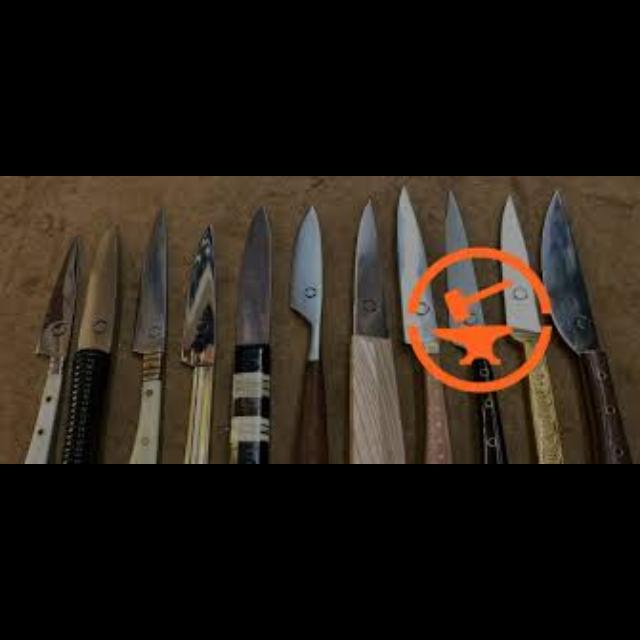Knife: (540, 190, 634, 462), (444, 190, 508, 462), (499, 193, 563, 462), (396, 184, 452, 462), (58, 222, 120, 462), (348, 198, 404, 462), (20, 235, 80, 462), (126, 205, 168, 462), (228, 205, 270, 462), (289, 205, 327, 462), (180, 222, 216, 462)
